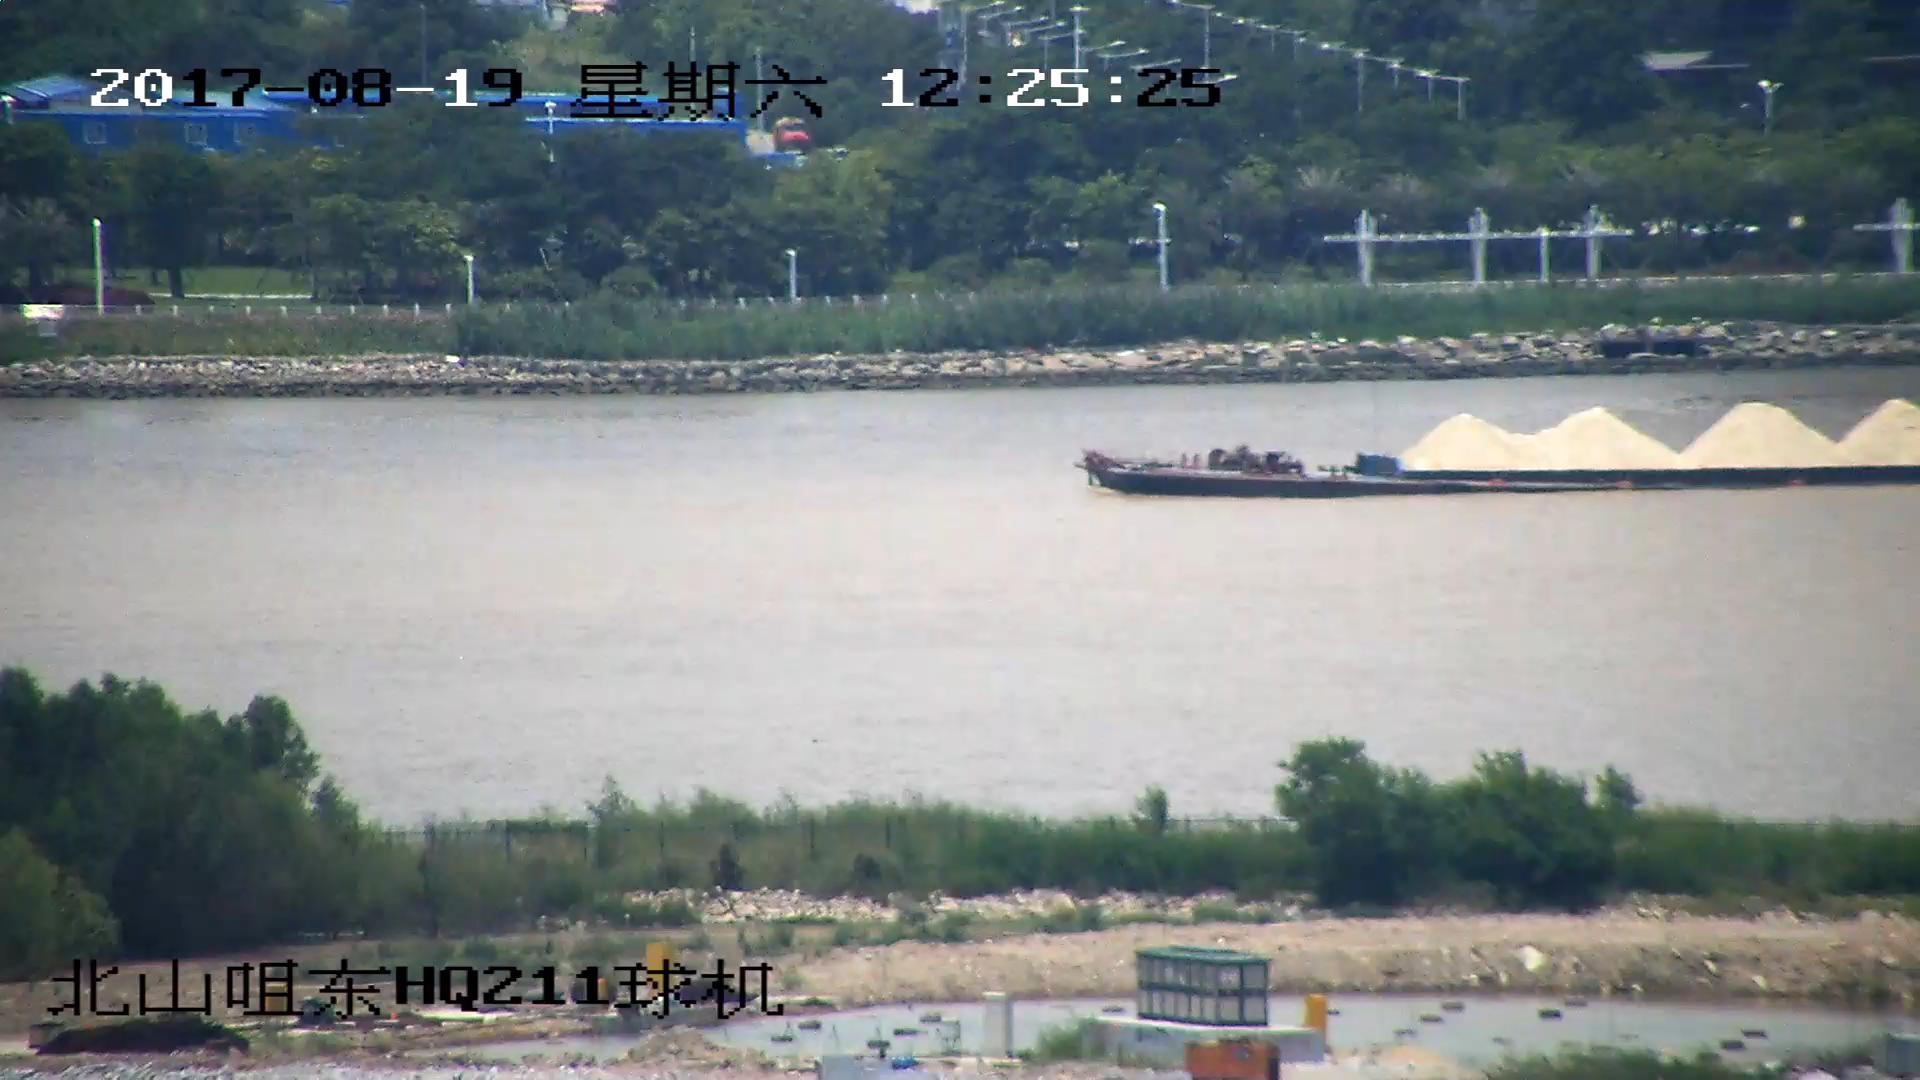ore carrier: (1079, 397, 1920, 498)
